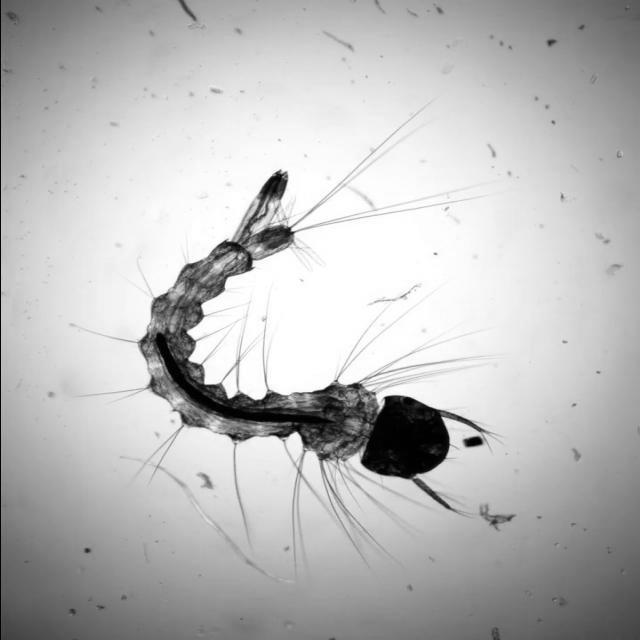larvas: (135, 184, 457, 478)
